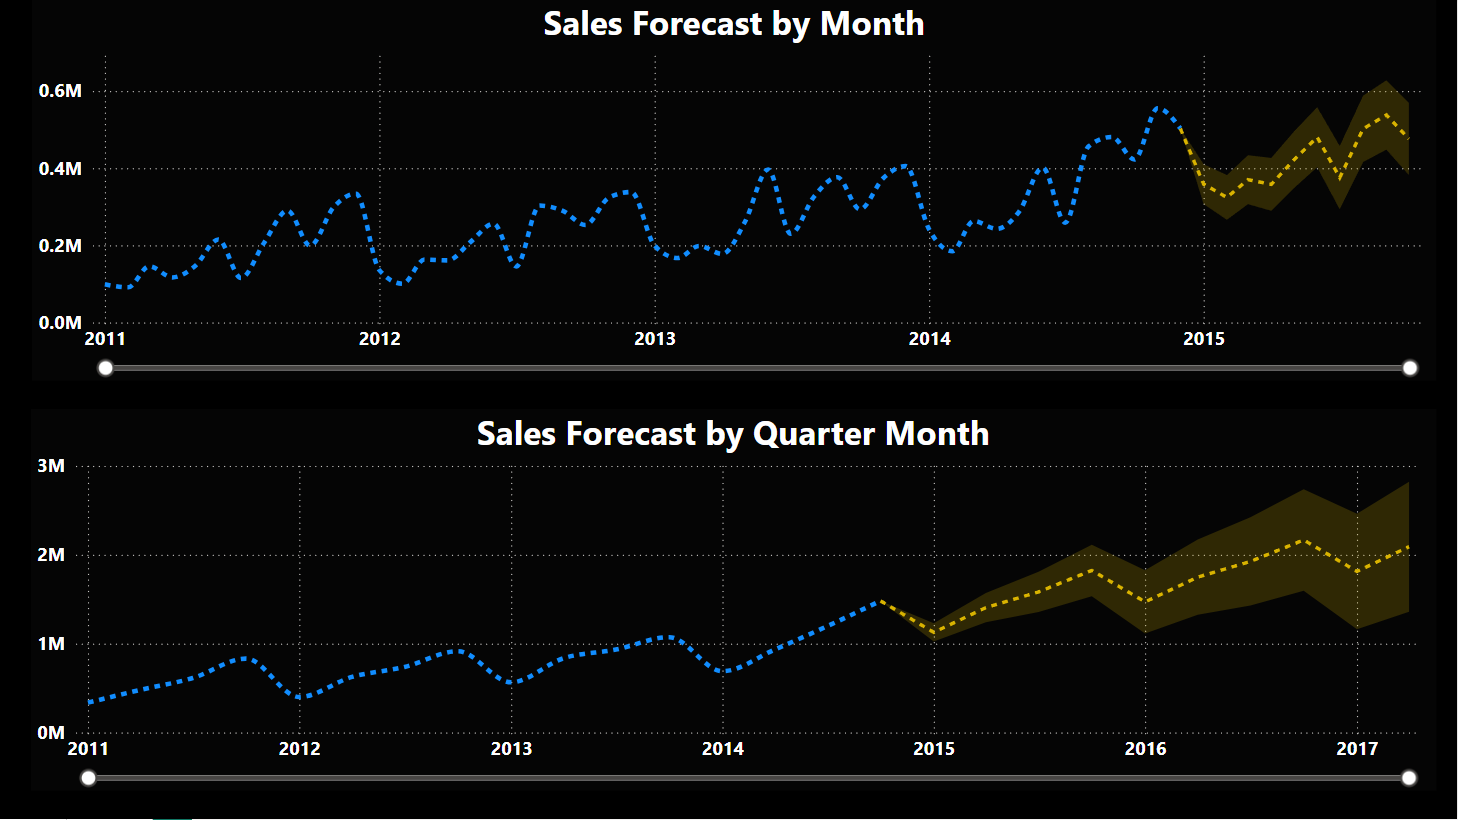

What the dashboard file says about the page in this screenshot:
{"tool":"powerbi","page":{"name":"Forecast","canvas":[1280,720],"ordinal":1},"visuals":[{"type":"lineChart","title":"Sales Forecast by Month","fields":{"Category":["Global_Superstore2.Order Date.Variation.Date Hierarchy.Year","Global_Superstore2.Order Date.Variation.Date Hierarchy.Quarter","Global_Superstore2.Order Date.Variation.Date Hierarchy.Month"],"Y":["Sum(Global_Superstore2.Sales)"]},"box":[28.6,0,1233.4,335.4],"z":0},{"type":"lineChart","title":"Sales Forecast by Quarter Month","fields":{"Category":["Global_Superstore2.Order Date.Variation.Date Hierarchy.Year","Global_Superstore2.Order Date.Variation.Date Hierarchy.Quarter"],"Y":["Sum(Global_Superstore2.Sales)"]},"box":[28.1,360,1233.7,335.4],"z":1000}]}

Visuals, with their boxes in screenshot pixels (x1, y1, x2, y2), scaled from the page's 1280x720 canvas onto the 1458x820 screenshot:
"Sales Forecast by Month" lineChart: box=[33, 0, 1437, 382]
"Sales Forecast by Quarter Month" lineChart: box=[32, 410, 1437, 792]
